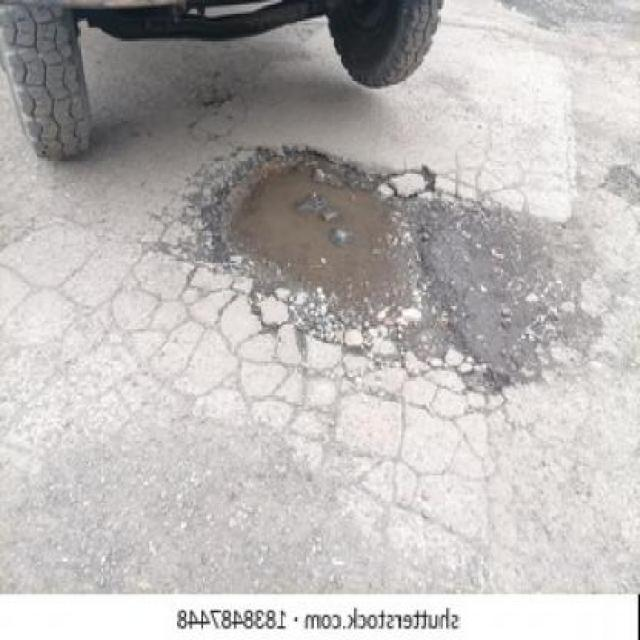Pothole: (193, 132, 515, 386)
